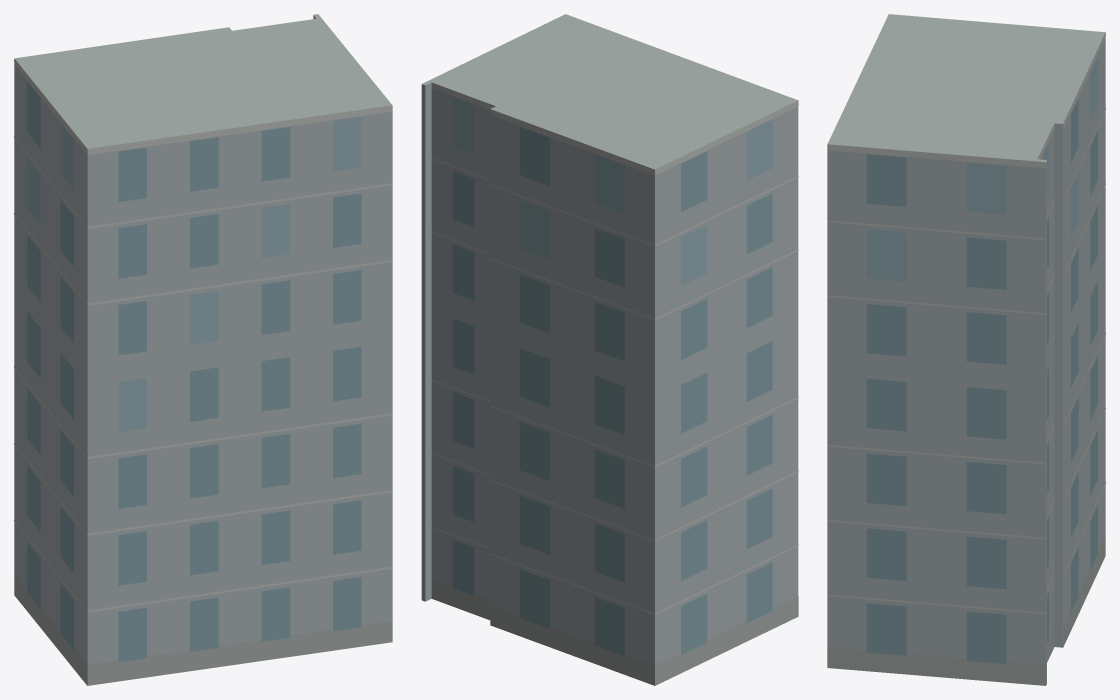
File: survey-upis-32797470.glb
3 renders of one model, left to right at view 1: azimuth 30°, elevation 25°; view 2: azimuth 150°, elevation 25°; view 3: azimuth 270°, elevation 25°, orthographic. The views are drawn at different scales.
Visible parts, largest first — view 1: survey-upis-32797470.tmp; view 2: survey-upis-32797470.tmp; view 3: survey-upis-32797470.tmp.
Boxes of the visible parts, <box> form: survey-upis-32797470.tmp: <box>14,14,392,685</box>; survey-upis-32797470.tmp: <box>421,14,798,685</box>; survey-upis-32797470.tmp: <box>827,14,1105,685</box>.
Size of the model in its own units: 12.77 by 21 by 10.14.
